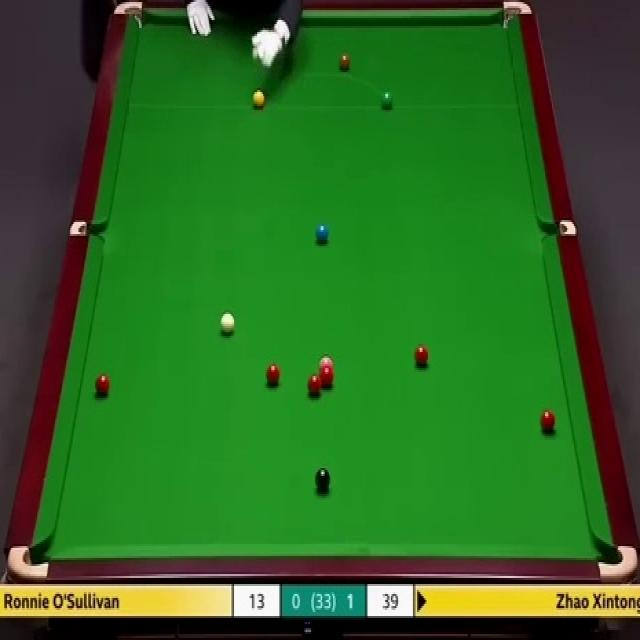black-ball: (313, 466, 332, 492)
blue-ball: (316, 225, 327, 245)
brown-ball: (336, 53, 352, 73)
green-ball: (380, 89, 393, 110)
pink-ball: (318, 356, 331, 376)
red-ball: (539, 408, 555, 435), (93, 376, 110, 398), (308, 375, 323, 397), (414, 345, 428, 367), (320, 370, 333, 392), (266, 366, 280, 386)
white-ball: (219, 312, 235, 333)
yellow-ball: (252, 89, 265, 108)
